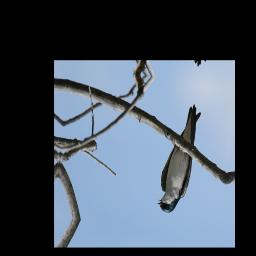Swallow: (156, 99, 202, 217)
